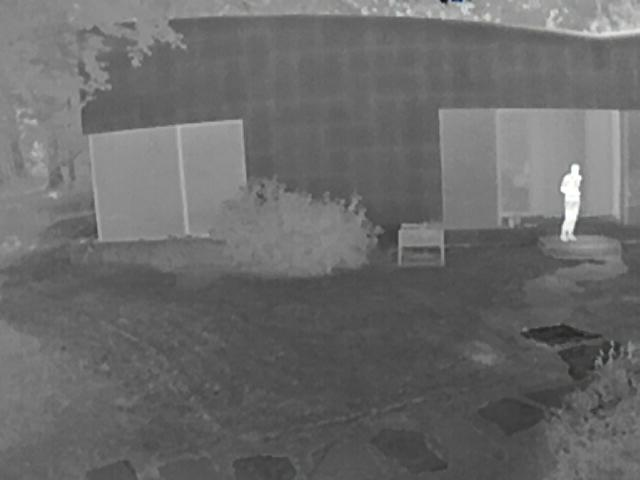person: (560, 162, 582, 243)
